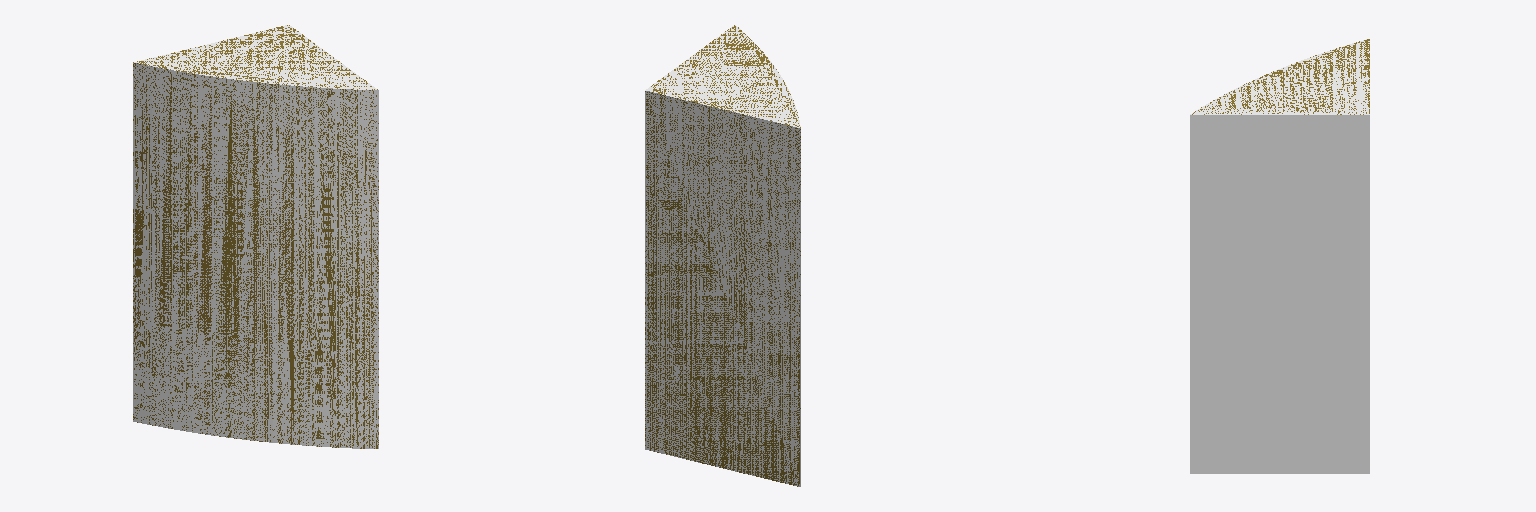
The model's file is original-13.obj.
3 views of the same model, side by side, from view 1: azimuth 30°, elevation 25°; view 2: azimuth 150°, elevation 25°; view 3: azimuth 270°, elevation 25° (orthographic).
Visible parts, largest first — view 1: mesh49/mesh49-geometry#mesh49-geometry; view 2: mesh49/mesh49-geometry#mesh49-geometry; view 3: mesh49/mesh49-geometry#mesh49-geometry.
Boxes of the visible parts, x1,y1,x2,y2 form: mesh49/mesh49-geometry#mesh49-geometry: [133, 25, 378, 448]; mesh49/mesh49-geometry#mesh49-geometry: [645, 25, 800, 486]; mesh49/mesh49-geometry#mesh49-geometry: [1190, 39, 1369, 473].
Bounding box in the file's own units: 0.0087 × 0.019 × 0.0087.